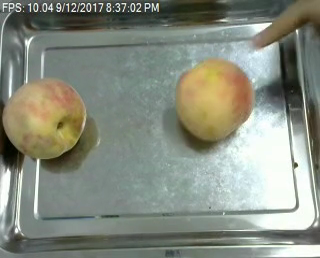Peach: (3, 77, 87, 159), (175, 59, 253, 142)
